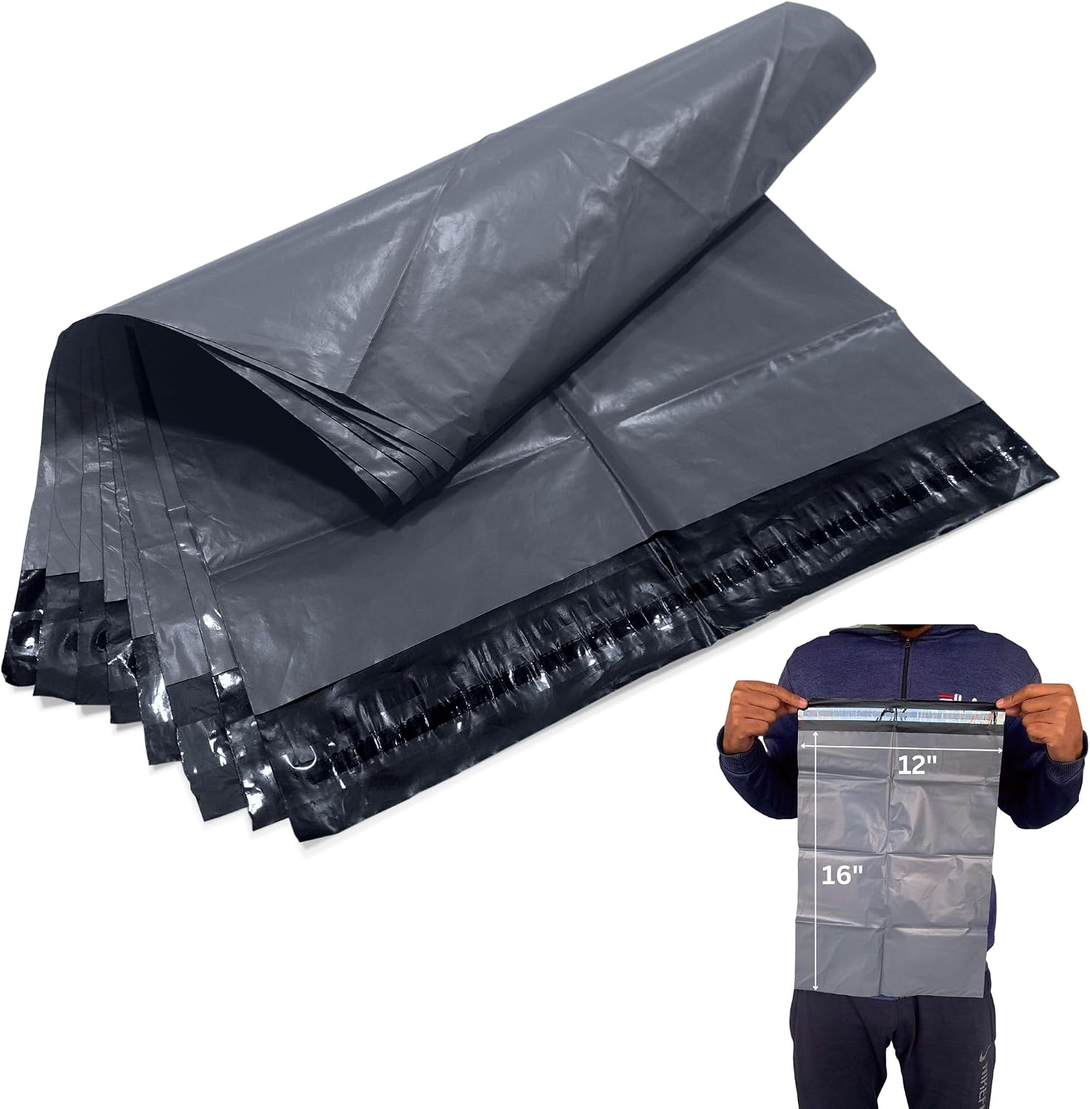Parcel: (3, 4, 1055, 840), (795, 702, 1005, 997)
